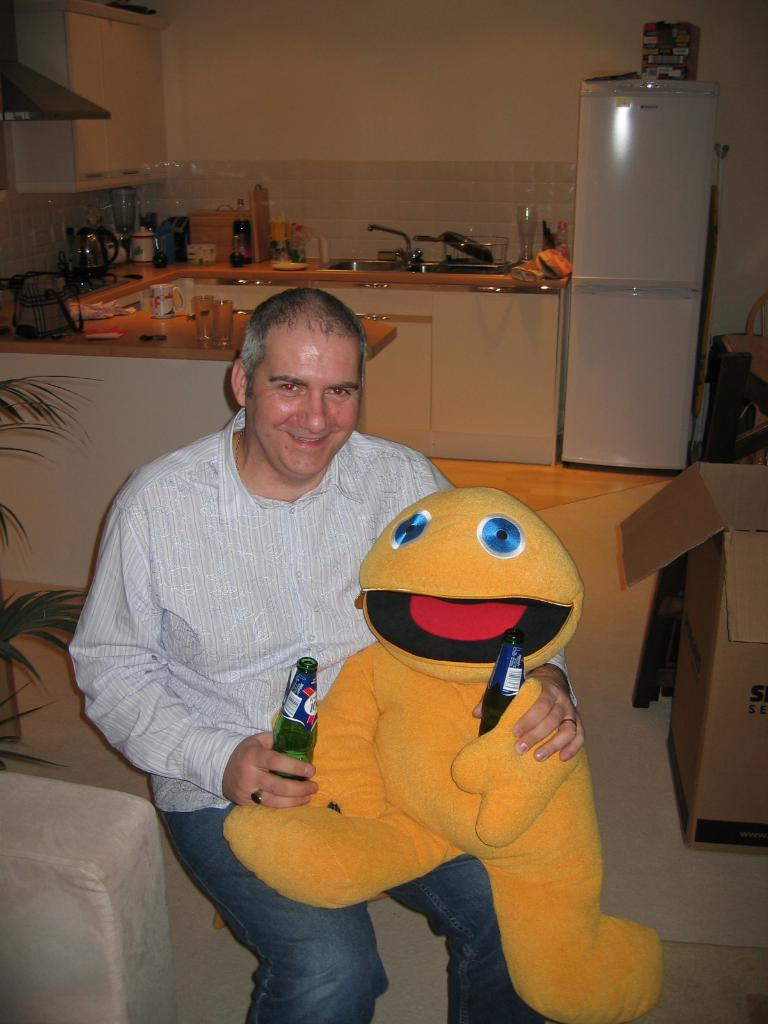cabinet door: (437, 287, 558, 449), (345, 286, 438, 326)
handle: (575, 259, 699, 310)
refrigerator door: (581, 91, 704, 282), (571, 282, 693, 468)
